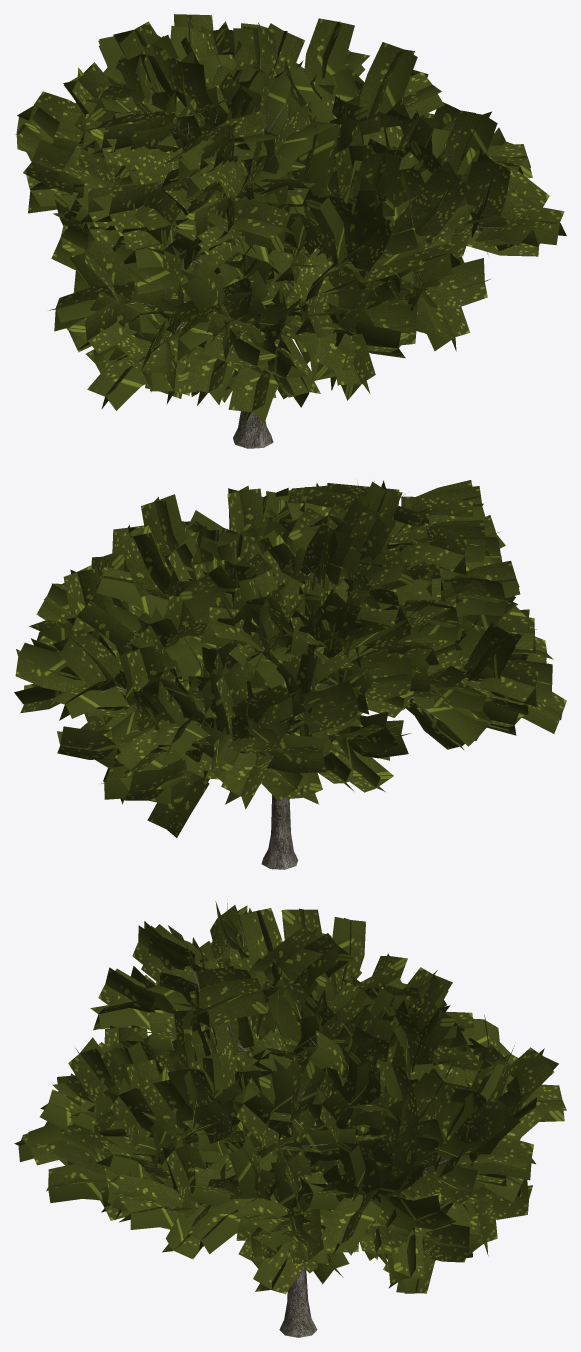
Rendered from SM_Tree_05.FBX.
3 views of the same model, one above another, from view 1: azimuth 30°, elevation 25°; view 2: azimuth 150°, elevation 25°; view 3: azimuth 270°, elevation 25° (orthographic). The views are drawn at different scales.
Parts seen in each view (by area): view 1: SM_Tree_05_LOD0; view 2: SM_Tree_05_LOD0; view 3: SM_Tree_05_LOD0.
Boxes of the visible parts, box(x1,y1,x2,y2) form: SM_Tree_05_LOD0: box(15, 14, 566, 448); SM_Tree_05_LOD0: box(14, 480, 566, 869); SM_Tree_05_LOD0: box(14, 899, 566, 1337).
Size of what is drawn, in the model's own units: 5105 by 5342 by 4093.
Materials: 3 (3 with a texture image).
